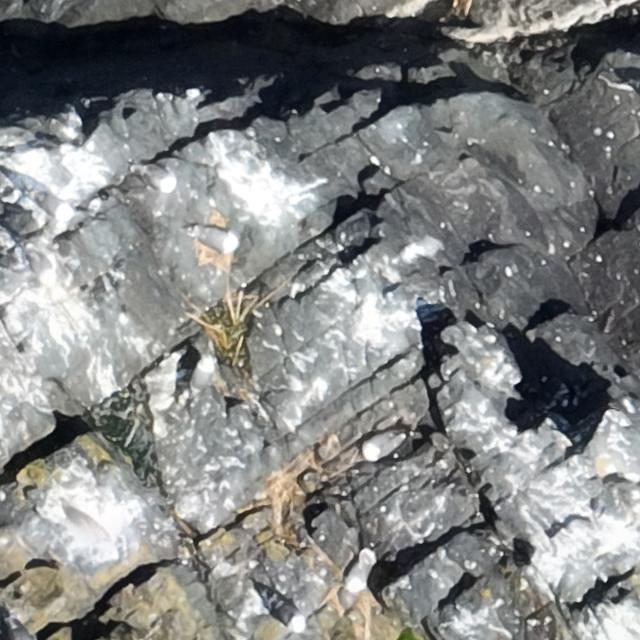umineko: (345, 548, 375, 591), (186, 353, 216, 395), (134, 162, 176, 191), (361, 432, 400, 463), (35, 193, 74, 222), (268, 600, 300, 628), (198, 229, 236, 250)
